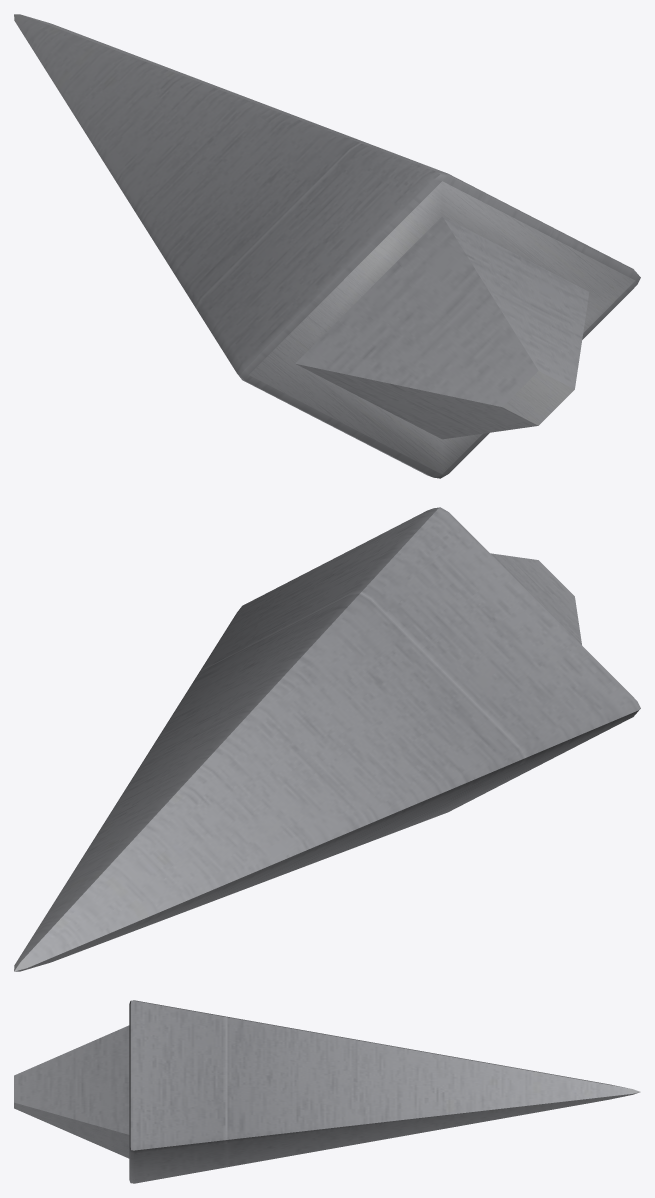
Rendered from Ammo_Dart.FBX.
The picture shows the model from 3 angles, top to bottom: view 1: azimuth 30°, elevation 25°; view 2: azimuth 150°, elevation 25°; view 3: azimuth 270°, elevation 25°; orthographic projection. The views are drawn at different scales.
Visible parts, largest first — view 1: Pyramid001; view 2: Pyramid001; view 3: Pyramid001.
Boxes of the visible parts, bbox=[...] form: Pyramid001: bbox=[14, 14, 640, 478]; Pyramid001: bbox=[14, 507, 640, 971]; Pyramid001: bbox=[14, 1000, 640, 1183].
Size of the model in its own units: 1.87 by 1.36 by 4.24.
1 material, 1 textured.
